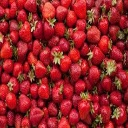strawberry: (25, 104, 44, 126), (88, 44, 106, 67), (77, 90, 90, 120), (31, 16, 44, 42), (49, 45, 64, 66), (112, 106, 127, 125), (8, 76, 20, 95)
